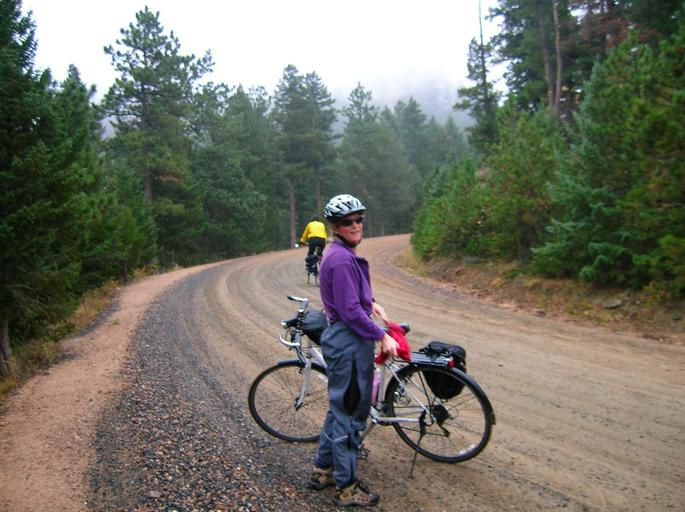non-vehicle: (248, 295, 496, 478), (295, 241, 323, 287)
